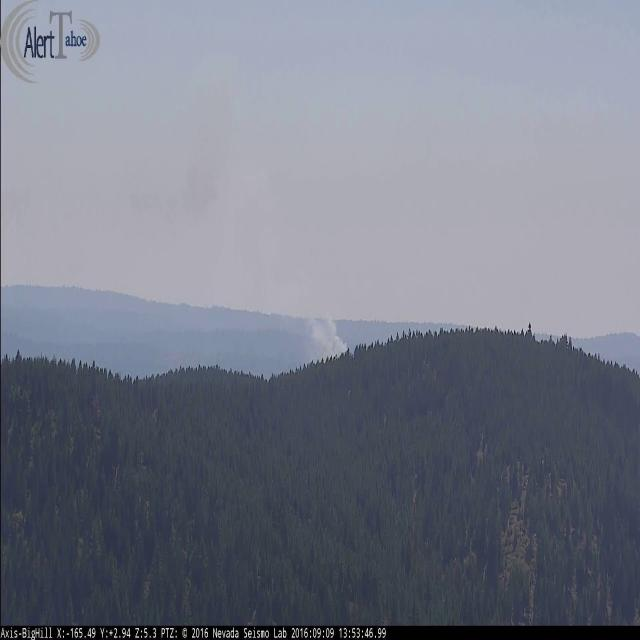smoke: (126, 116, 352, 360)
